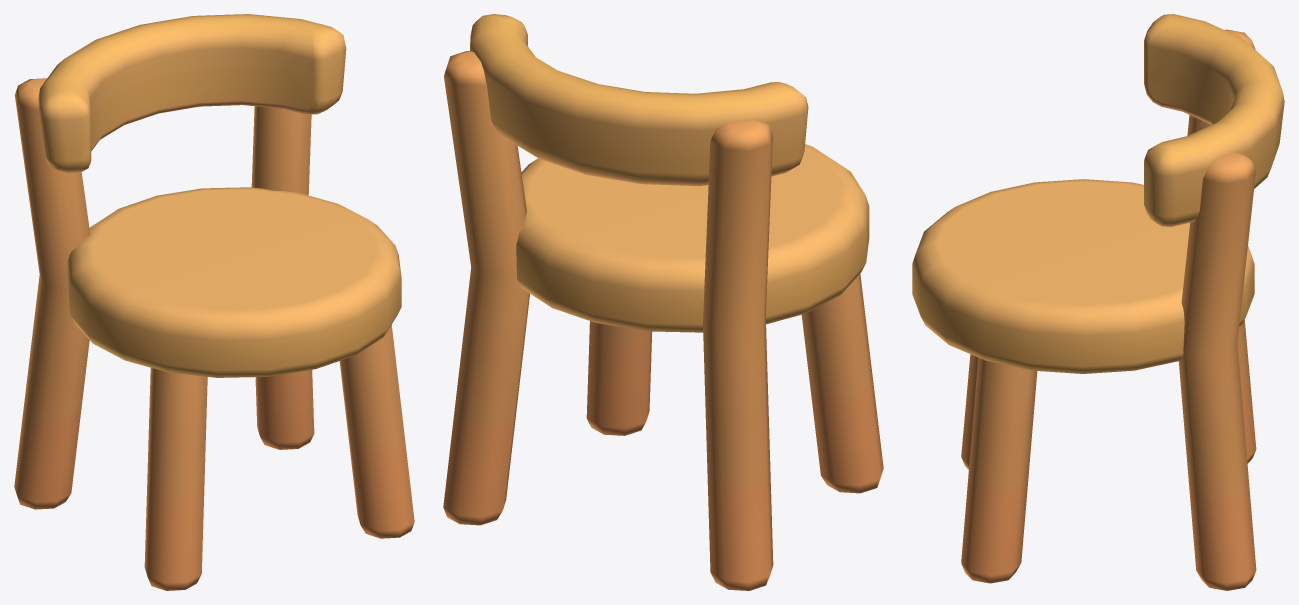
File: Chair_14.glb
3 renders of one model, left to right at view 1: azimuth 30°, elevation 25°; view 2: azimuth 150°, elevation 25°; view 3: azimuth 270°, elevation 25°, orthographic. The views are drawn at different scales.
Visible parts, largest first — view 1: Chair_14; view 2: Chair_14; view 3: Chair_14.
Boxes of the visible parts, <box> form: Chair_14: <box>14,14,414,590</box>; Chair_14: <box>443,14,883,590</box>; Chair_14: <box>912,14,1284,590</box>.
Bounding box in the file's own units: 0.4939 × 0.6765 × 0.5164.
1 material, 1 textured.
